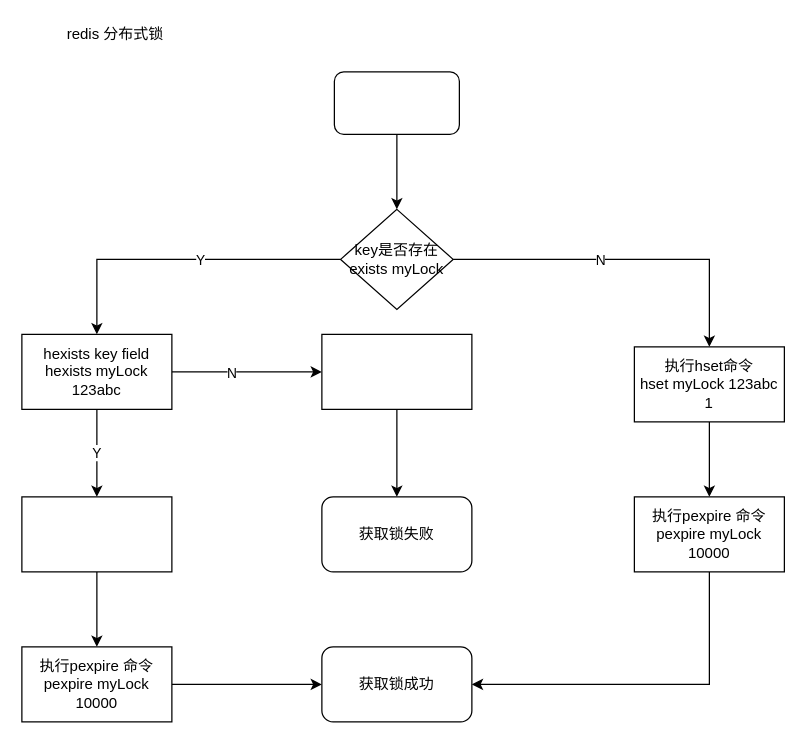
The diagram is 806 pixels wide and 744 high, and some of its shapes have lost their labels. The shapes that lost their labels are listed below. From the top down, each one's centre as x and y in pixels, then its label:
pixel 396 102: 客户端
pixel 396 371: pptl key key的剩余过期时间 PPTL myLock
pixel 96 534: hincrby myLock 123abc 1
